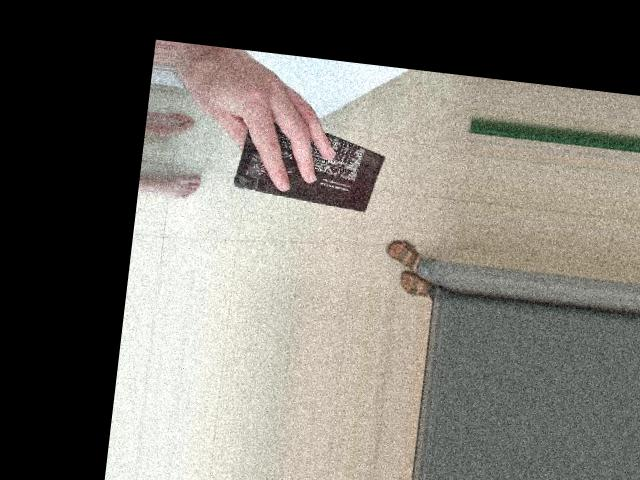chocolate: (224, 115, 391, 218)
